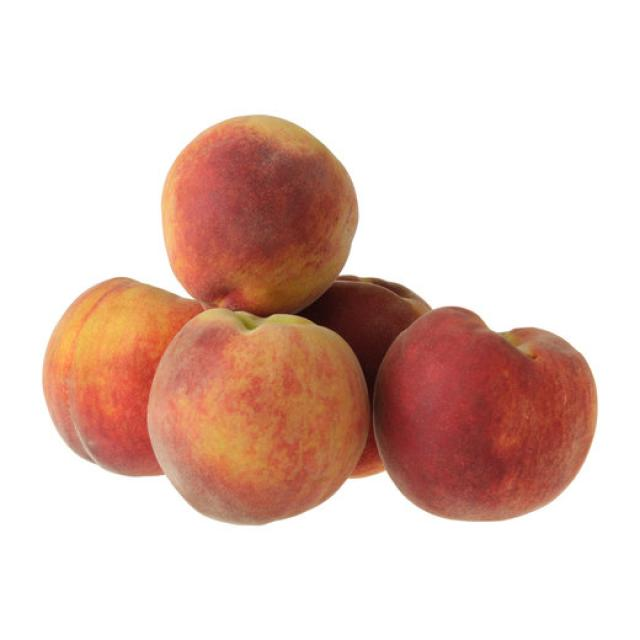peach: (145, 308, 372, 529), (372, 306, 597, 524), (160, 114, 359, 319), (41, 278, 207, 480)
